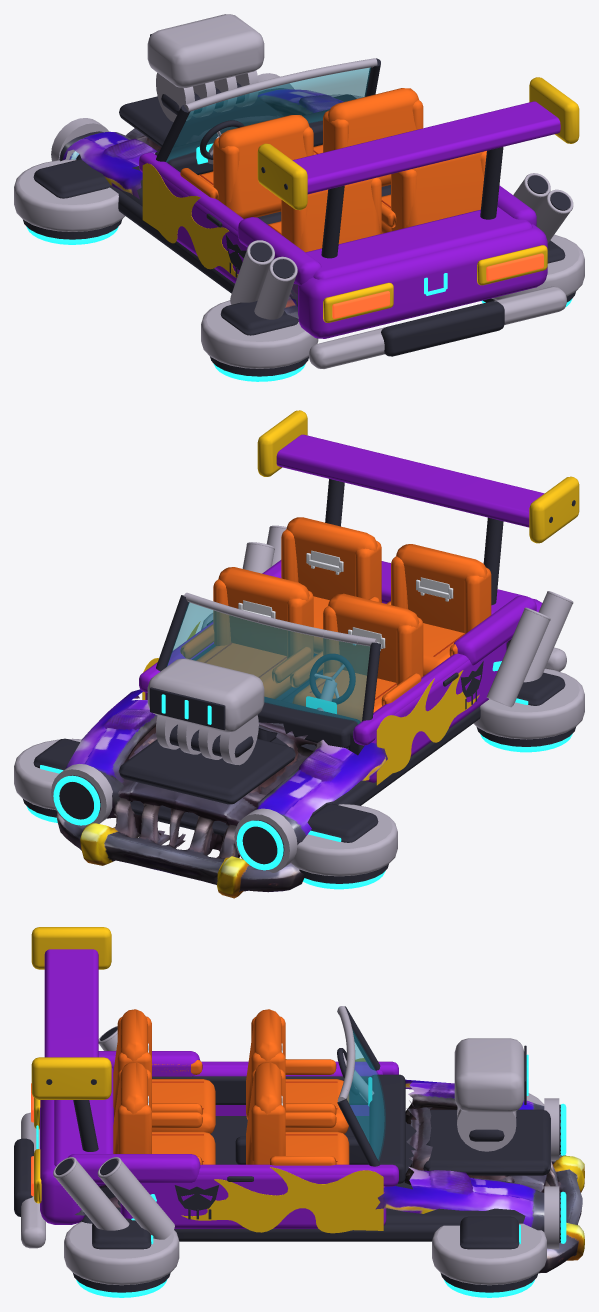
File: Flamecouch.fbx
3 views of the same model, one above another, from view 1: azimuth 30°, elevation 25°; view 2: azimuth 150°, elevation 25°; view 3: azimuth 270°, elevation 25° (orthographic).
Visible parts, largest first — view 1: Flamecouch_Mesh, Rear_Spoiler_Mesh, Supercharger_Mesh, Windscreen_Mesh, HoverPod_Front_L_Mesh, HoverPod_Rear_L_Mesh, Seat_Front_L_Mesh, Body_FlameLivery, Seat_Rear_R_Mesh, SidePanel_L_Mesh, Seat_Front_R_Mesh, Seat_Rear_L_Mesh (+5 smaller); view 2: Body_FlameLivery, Flamecouch_Mesh, Windscreen_Mesh, Rear_Spoiler_Mesh, Seat_Front_R_Mesh, Supercharger_Mesh, Seat_Front_L_Mesh, Seat_Rear_L_Mesh, Seat_Rear_R_Mesh, HoverPod_Front_L_Mesh, SidePanel_L_Mesh, HoverPod_Rear_L_Mesh (+7 smaller); view 3: Flamecouch_Mesh, SidePanel_R_Mesh, Rear_Spoiler_Mesh, Body_FlameLivery, HoverPod_Front_R_Mesh, Supercharger_Mesh, HoverPod_Rear_R_Mesh, Seat_Front_R_Mesh, Seat_Rear_R_Mesh, Seat_Front_L_Mesh, Side_Exhaust_R_Mesh, Seat_Rear_L_Mesh (+6 smaller).
Part boxes in pixels (x1,y1,x2,y2): Flamecouch_Mesh: [110, 96, 566, 368]; Rear_Spoiler_Mesh: [257, 77, 579, 258]; Supercharger_Mesh: [147, 14, 264, 121]; Windscreen_Mesh: [156, 58, 380, 161]; HoverPod_Front_L_Mesh: [14, 159, 124, 244]; HoverPod_Rear_L_Mesh: [201, 300, 318, 381]; Seat_Front_L_Mesh: [180, 115, 313, 224]; Body_FlameLivery: [59, 88, 343, 318]; Seat_Rear_R_Mesh: [381, 151, 486, 233]; SidePanel_L_Mesh: [142, 162, 247, 283]; Seat_Front_R_Mesh: [313, 88, 423, 196]; Seat_Rear_L_Mesh: [267, 177, 381, 252]; Body_FlameLivery: [56, 639, 511, 898]; Flamecouch_Mesh: [119, 560, 566, 805]; Windscreen_Mesh: [156, 592, 380, 723]; Rear_Spoiler_Mesh: [257, 410, 579, 605]; Seat_Front_R_Mesh: [180, 567, 313, 700]; Supercharger_Mesh: [147, 658, 264, 765]; Seat_Front_L_Mesh: [290, 593, 423, 721]; Seat_Rear_L_Mesh: [386, 544, 491, 675]; Seat_Rear_R_Mesh: [281, 517, 381, 656]; HoverPod_Front_L_Mesh: [291, 803, 397, 889]; SidePanel_L_Mesh: [361, 642, 506, 785]; HoverPod_Rear_L_Mesh: [473, 668, 584, 752]; Flamecouch_Mesh: [14, 1051, 550, 1248]; SidePanel_R_Mesh: [120, 1167, 386, 1233]; Rear_Spoiler_Mesh: [31, 927, 111, 1151]; Body_FlameLivery: [75, 1079, 584, 1273]; HoverPod_Front_R_Mesh: [432, 1216, 546, 1297]; Supercharger_Mesh: [454, 1038, 528, 1151]; HoverPod_Rear_R_Mesh: [64, 1218, 179, 1297]; Seat_Front_R_Mesh: [246, 1062, 349, 1165]; Seat_Rear_R_Mesh: [113, 1062, 215, 1164]; Seat_Front_L_Mesh: [246, 1009, 349, 1133]; Side_Exhaust_R_Mesh: [53, 1157, 174, 1239]; Seat_Rear_L_Mesh: [113, 1009, 215, 1133].
Bounding box in the file's own units: 450 × 278 × 615.
Materials: 11 (1 with a texture image).
